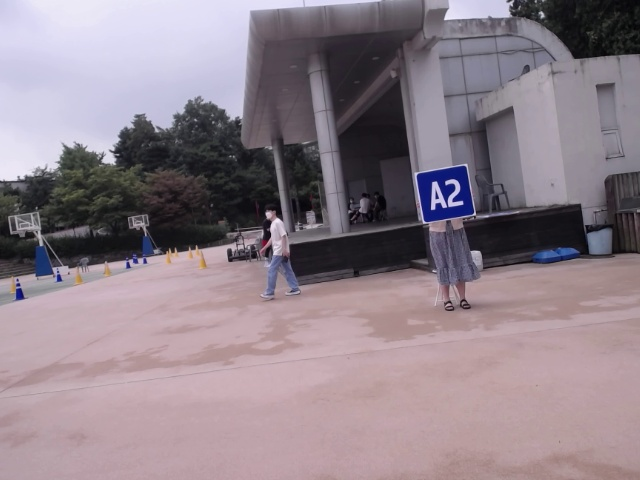delivery_a2: (415, 165, 475, 223)
